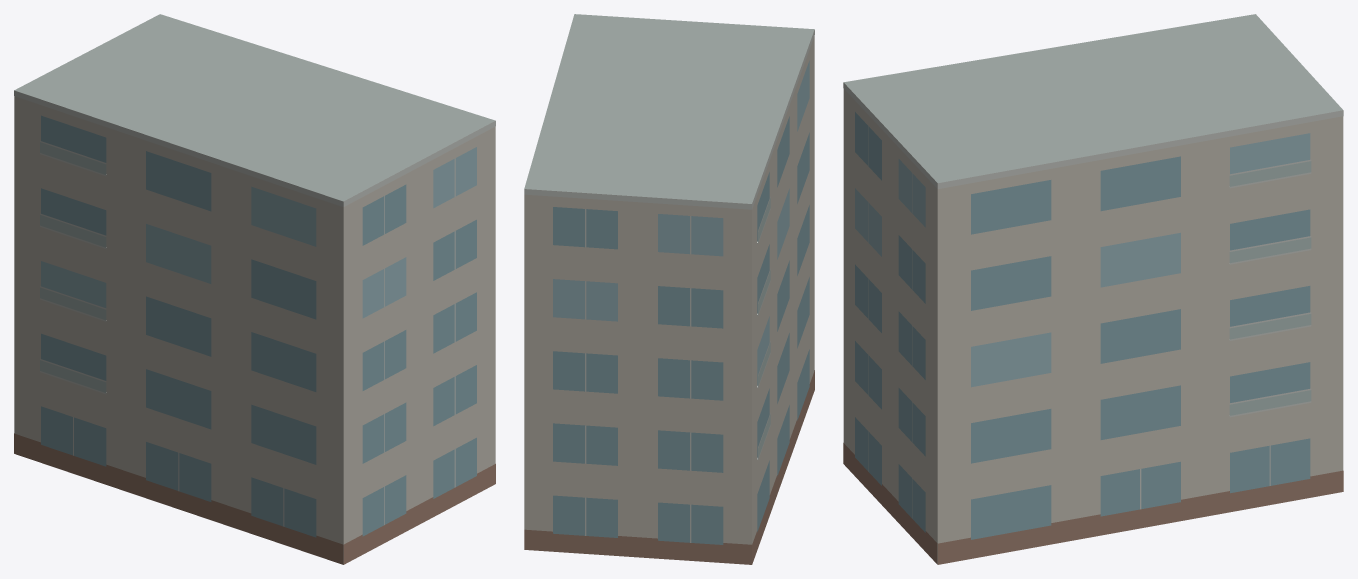
File: survey-upis-32990493.glb
3 views of the same model, side by side, from view 1: azimuth 30°, elevation 25°; view 2: azimuth 150°, elevation 25°; view 3: azimuth 270°, elevation 25° (orthographic). The views are drawn at different scales.
Visible parts, largest first — view 1: survey-upis-32990493.tmp; view 2: survey-upis-32990493.tmp; view 3: survey-upis-32990493.tmp.
Part boxes in pixels (<box>): survey-upis-32990493.tmp: <box>14,14,495,564</box>; survey-upis-32990493.tmp: <box>524,14,814,564</box>; survey-upis-32990493.tmp: <box>843,14,1343,564</box>.
Bounding box in the file's own units: 14.85 × 15.6 × 18.53.
